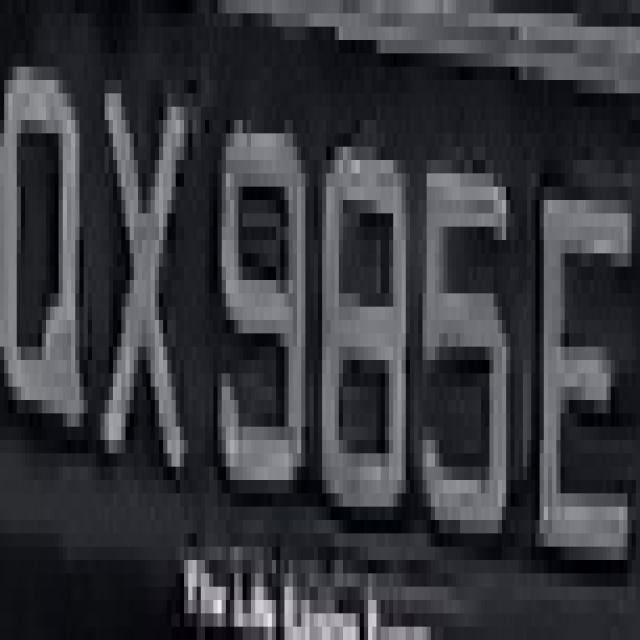5: (410, 94, 527, 574)
8: (314, 67, 418, 613)
9: (209, 67, 314, 533)
E: (540, 160, 628, 600)
Q: (4, 27, 96, 480)
X: (88, 40, 188, 520)
